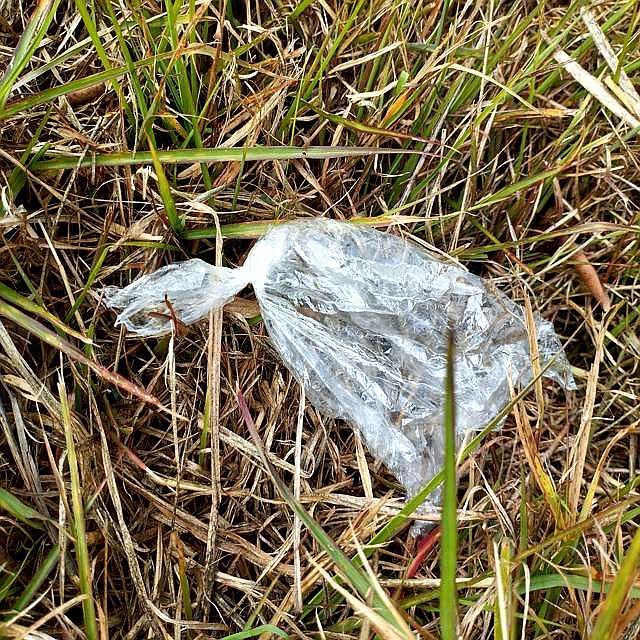Non-biodegradable: (101, 214, 579, 547)
